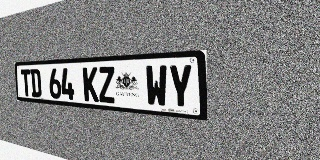4: (60, 68, 74, 100)
6: (48, 68, 62, 99)
D: (30, 69, 42, 97)
K: (83, 67, 99, 102)
T: (21, 69, 32, 97)
W: (145, 65, 168, 108)
Y: (168, 64, 193, 110)
Z: (98, 66, 116, 103)
